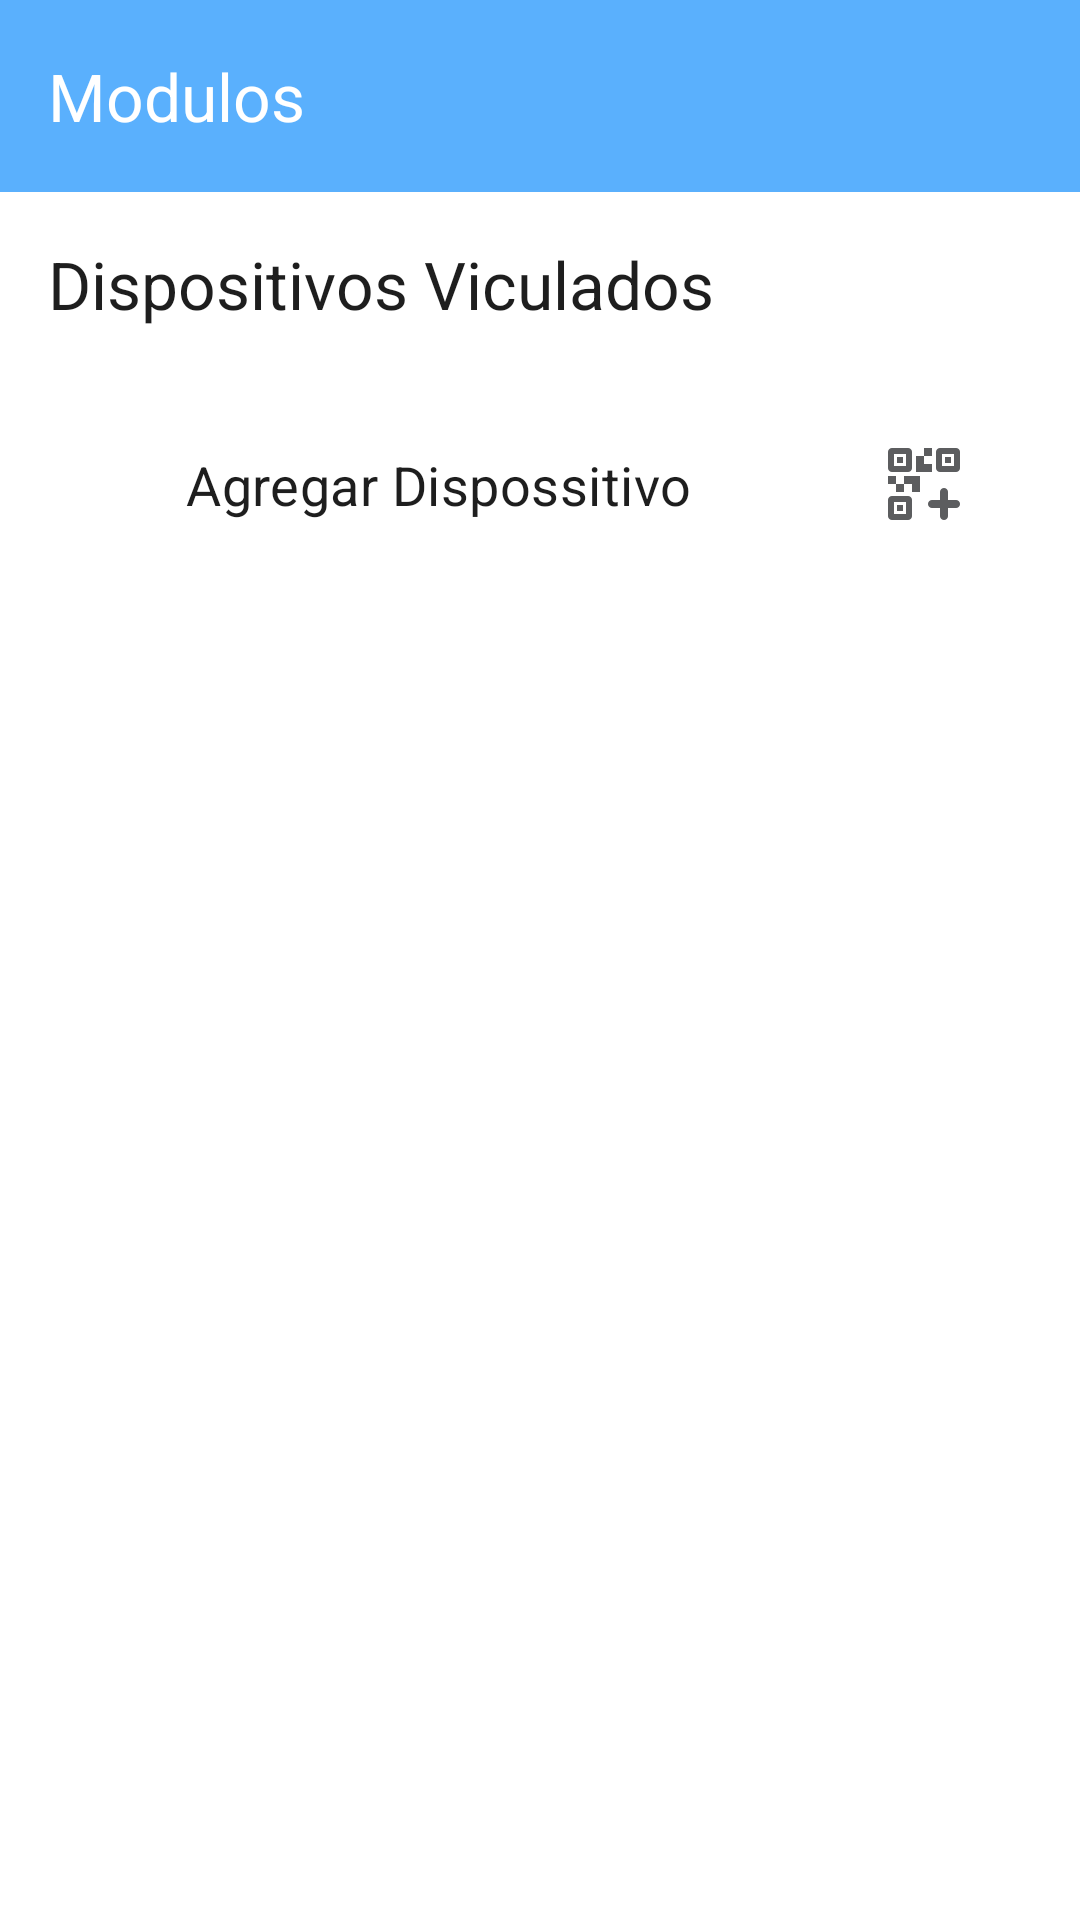

Locate icon controls on the screen. Image size 1080 x 1920, boxes as bbox=(x1, y1, x2, y2).
qr code: bbox=(888, 448, 960, 520)
